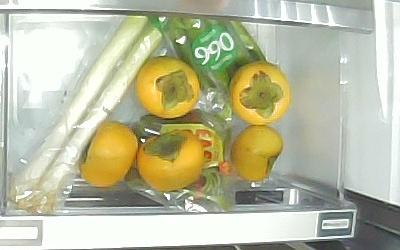persimmon: (81, 120, 137, 190), (138, 131, 202, 190), (137, 58, 199, 118), (231, 61, 288, 124), (232, 124, 284, 183)
